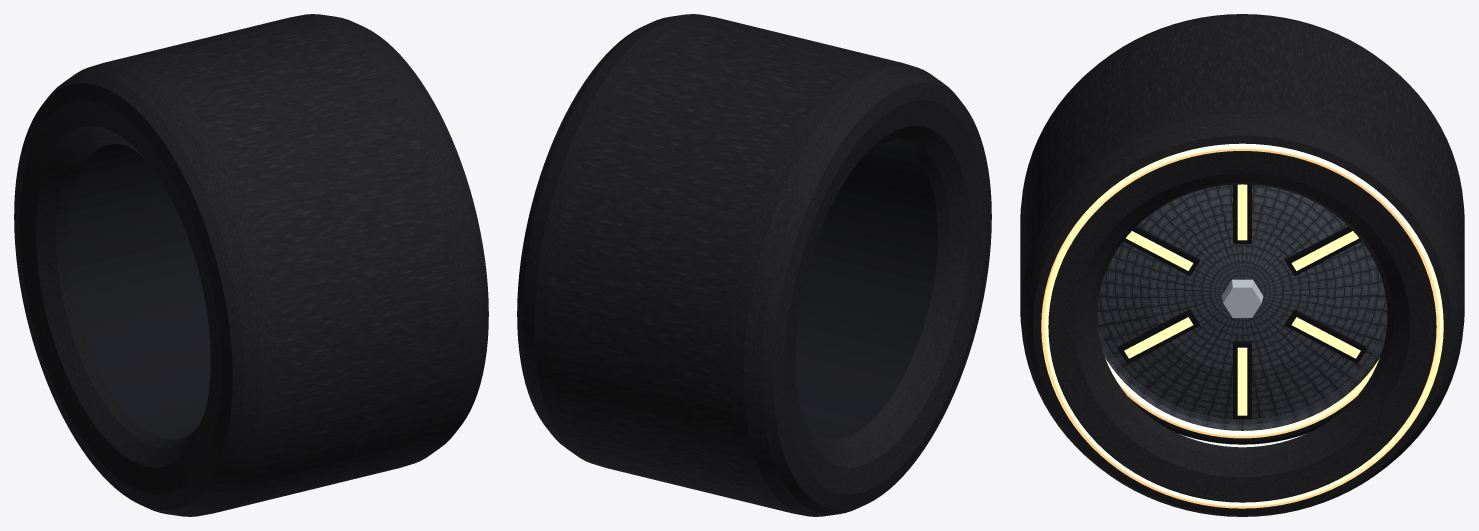
File: tyre-solar.glb
3 views of the same model, side by side, from view 1: azimuth 30°, elevation 25°; view 2: azimuth 150°, elevation 25°; view 3: azimuth 270°, elevation 25° (orthographic). The views are drawn at different scales.
Visible parts, largest first — view 1: Tyre_Rubber, Rim; view 2: Tyre_Rubber, Rim; view 3: Tyre_Rubber, Carbon, LED_Side, Hub, LED_Ring, Lip, Chrome, LED_Seg_1, LED_Seg_2, LED_Seg_6, LED_Seg_3, LED_Seg_5 (+1 smaller).
Boxes of the visible parts, x1,y1,x2,y2 form: Tyre_Rubber: (14, 14, 488, 516); Rim: (68, 144, 210, 439); Tyre_Rubber: (517, 14, 991, 516); Rim: (795, 144, 937, 439); Tyre_Rubber: (1020, 14, 1464, 516); Carbon: (1097, 184, 1387, 430); LED_Side: (1041, 143, 1443, 508); Hub: (1117, 184, 1367, 419); LED_Ring: (1105, 358, 1379, 438); Lip: (1129, 397, 1355, 444); Chrome: (1221, 279, 1263, 317); LED_Seg_1: (1237, 347, 1247, 415); LED_Seg_2: (1291, 317, 1360, 358); LED_Seg_6: (1124, 317, 1193, 358); LED_Seg_3: (1291, 231, 1358, 270); LED_Seg_5: (1126, 231, 1193, 270).
Bounding box in the file's own units: 0.1813 × 0.276 × 0.276.
Materials: 14 (2 with a texture image).
